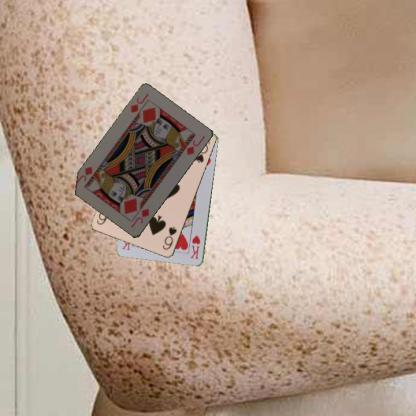6s: (160, 224, 178, 252)
Jd: (127, 90, 150, 115), (128, 206, 150, 229)
Kh: (188, 233, 202, 260)
